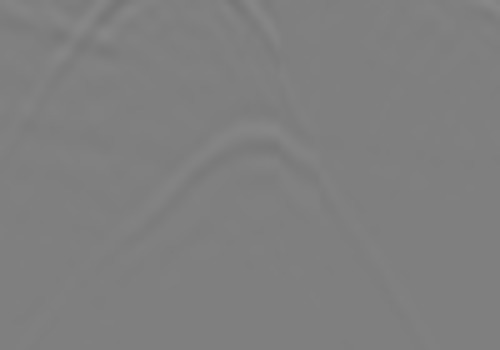hyperbola: (94, 121, 410, 325)
